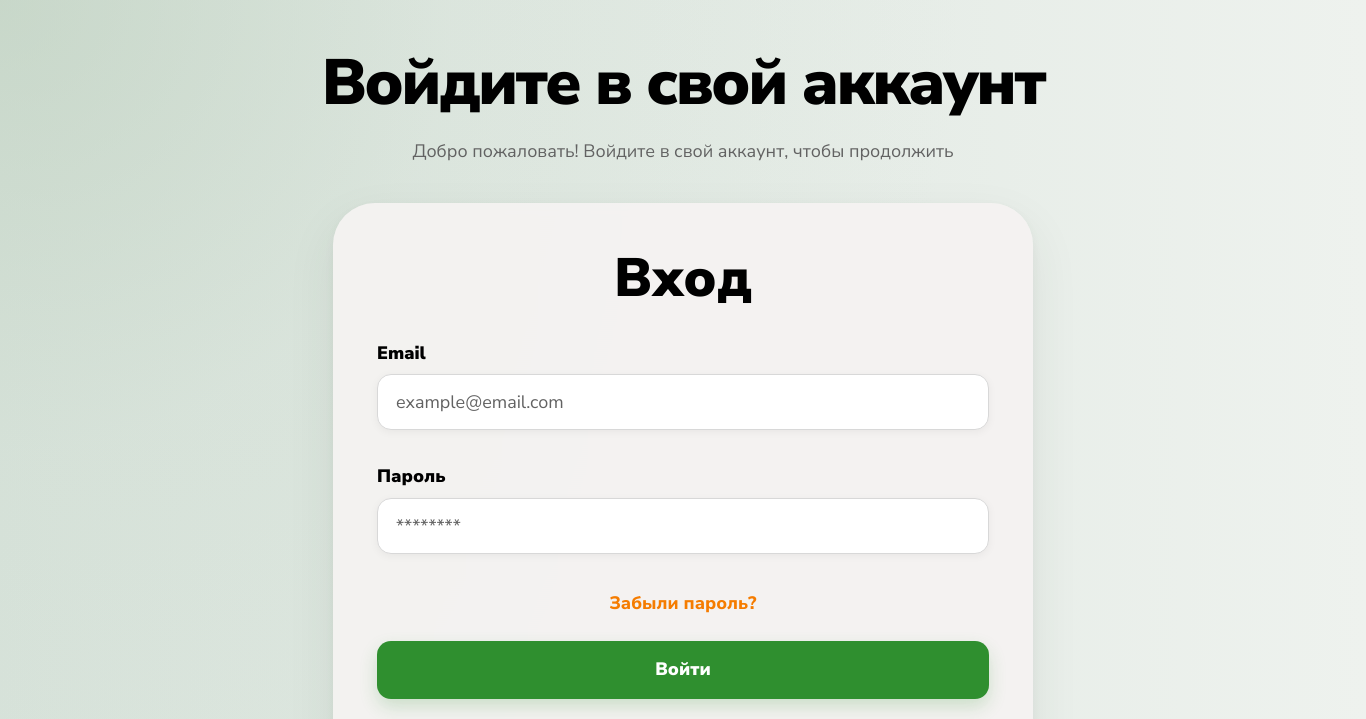
LoginPage › shows fallback error when api throws without message
The width and height of the screenshot is (1366, 719).
In the field labelled "Email": {"x": 683, "y": 402} [377, 374, 989, 430], type "test@mail.com"
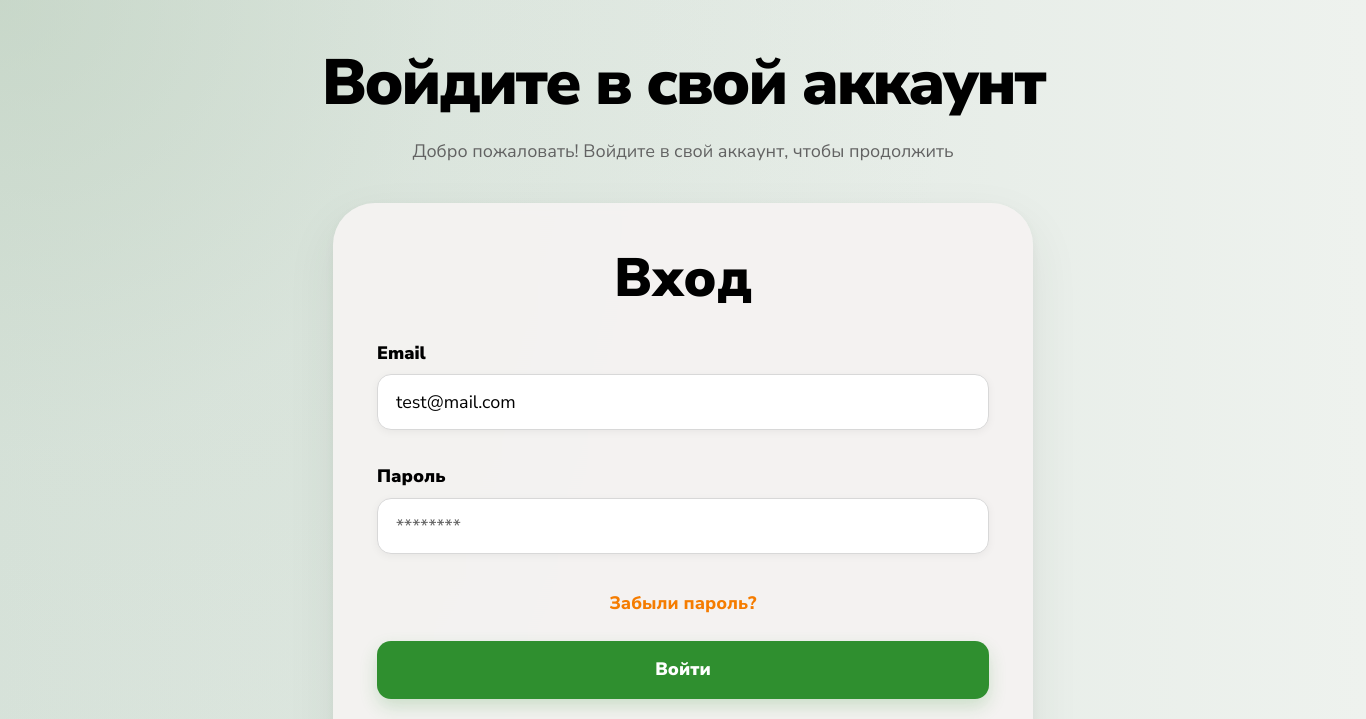
In the password field labelled "Пароль": {"x": 683, "y": 526} [377, 498, 989, 554], type "wrong-password"
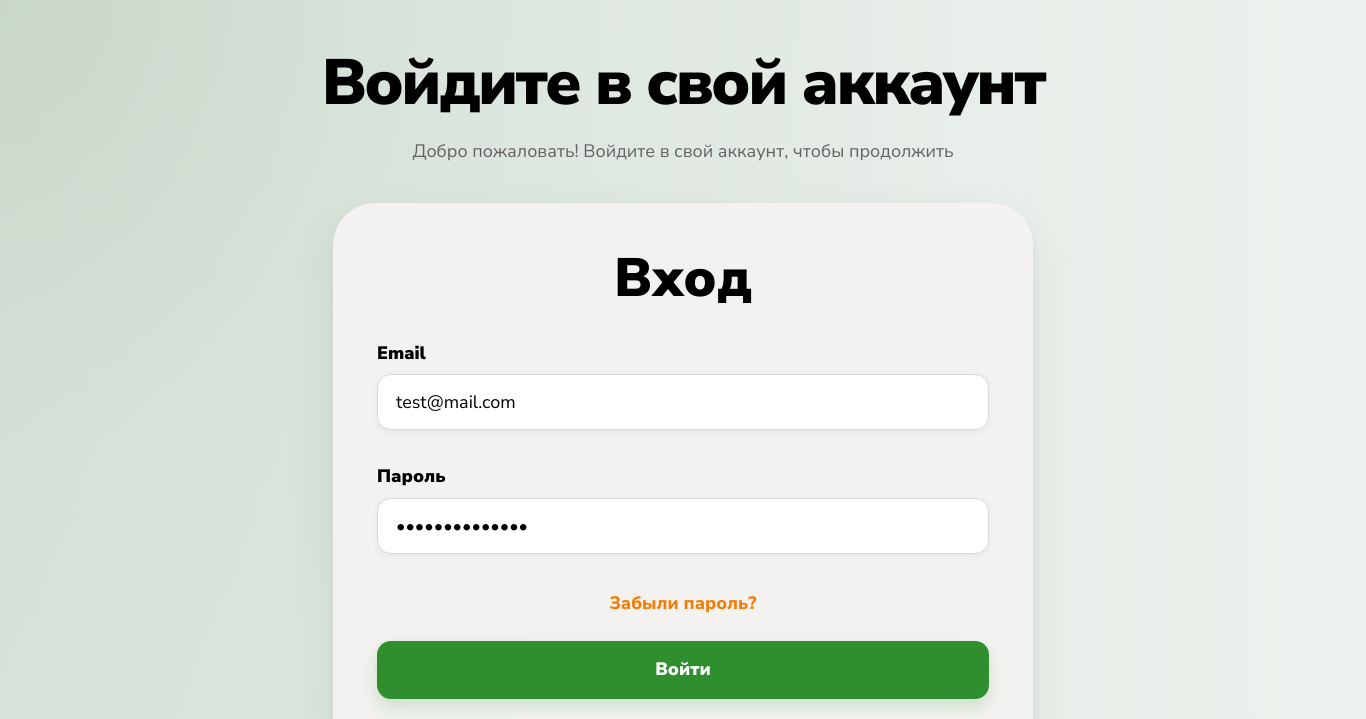
Click the button "Войти": {"x": 683, "y": 670} [377, 641, 989, 699]
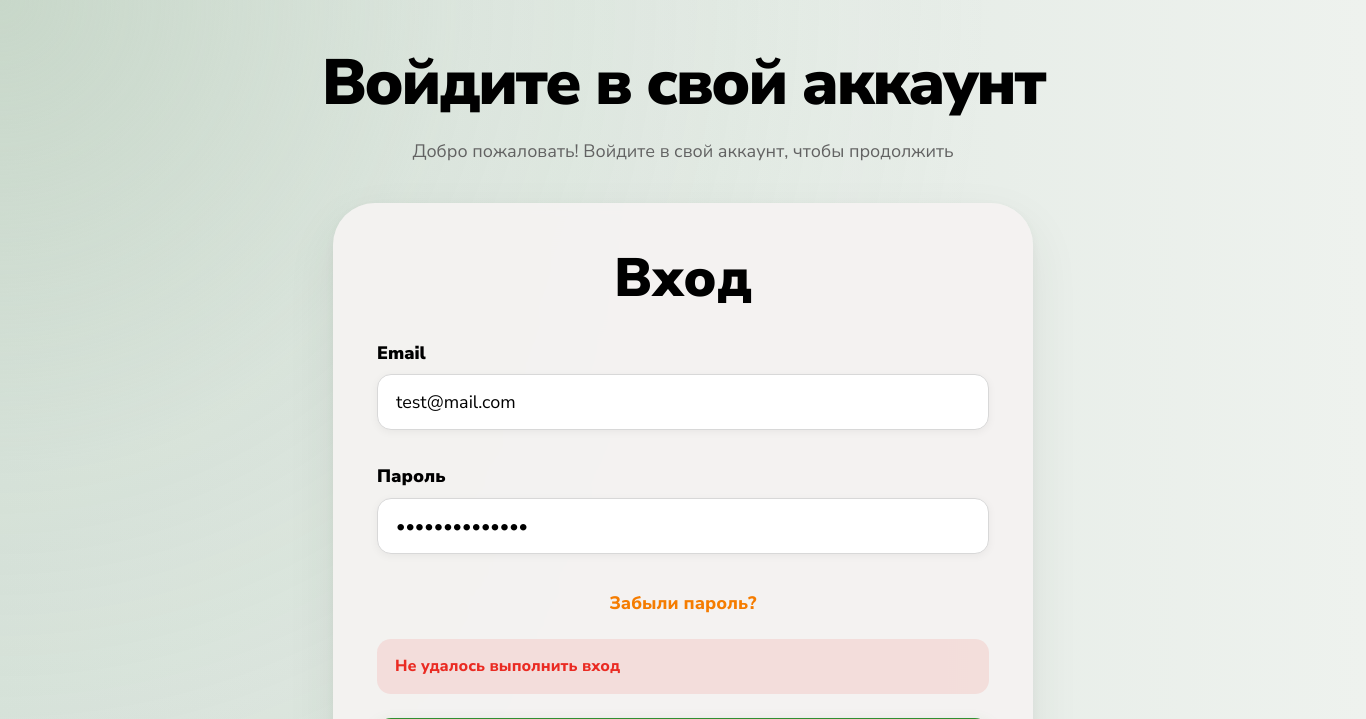
Expected: the text "Не удалось выполнить вход" is shown, [377, 639, 989, 694]
